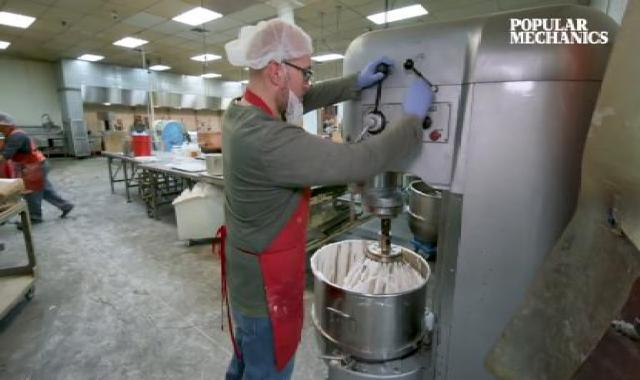hairnet: (222, 19, 318, 72)
